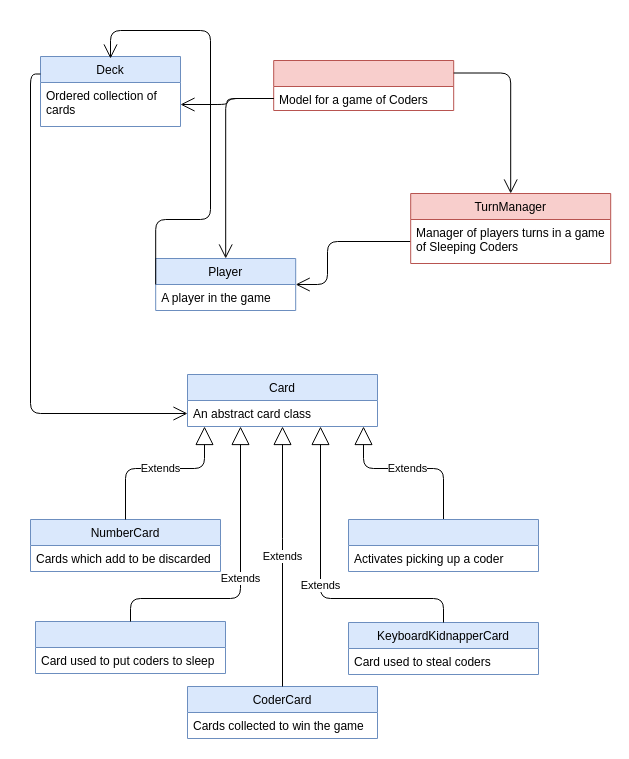
Image size: 629x759. Some labels were removed from this diagram. Here are the shapes that lost their labels. From the top down, the box of each, then its label:
(273, 60, 454, 110): CodersGame
(348, 518, 538, 572): TutorCard
(34, 620, 226, 674): AllNighterCard
